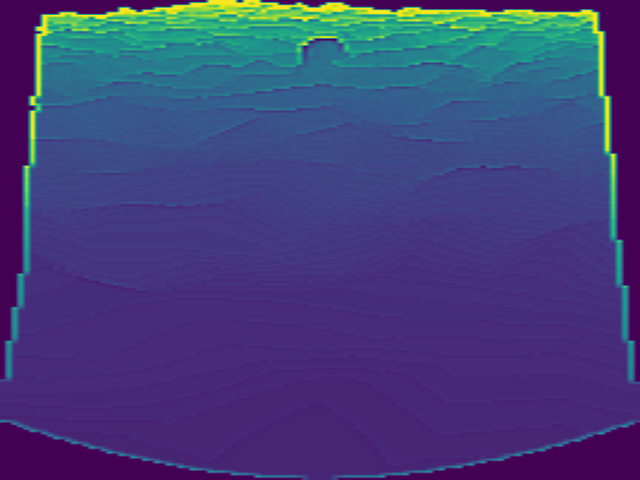car_0198: (300, 35, 347, 69)
